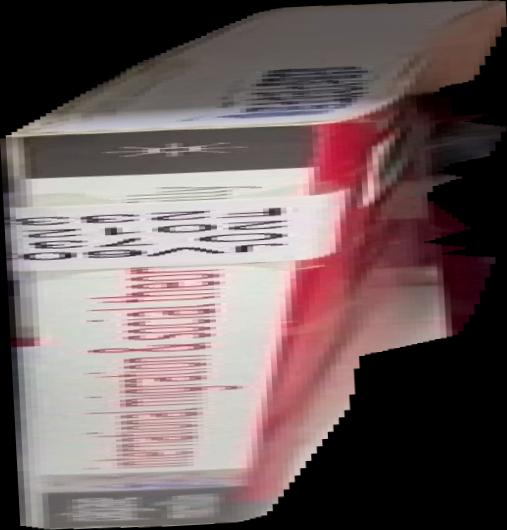reverse: (1, 1, 507, 530)
